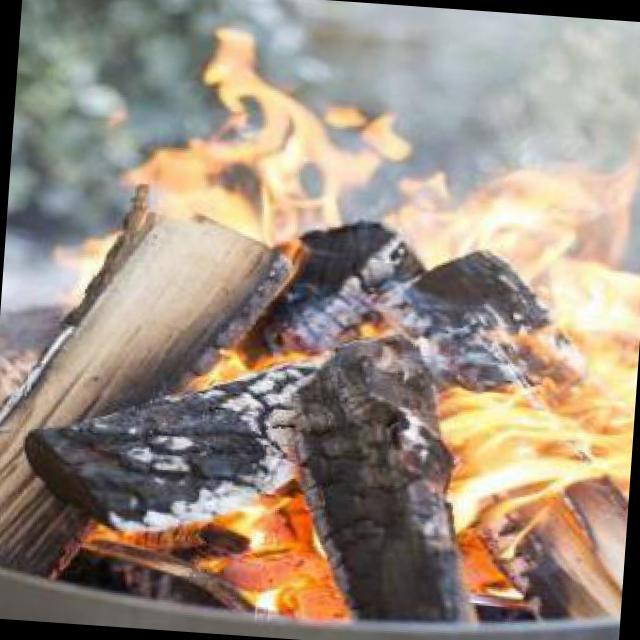fire: (65, 16, 640, 603)
